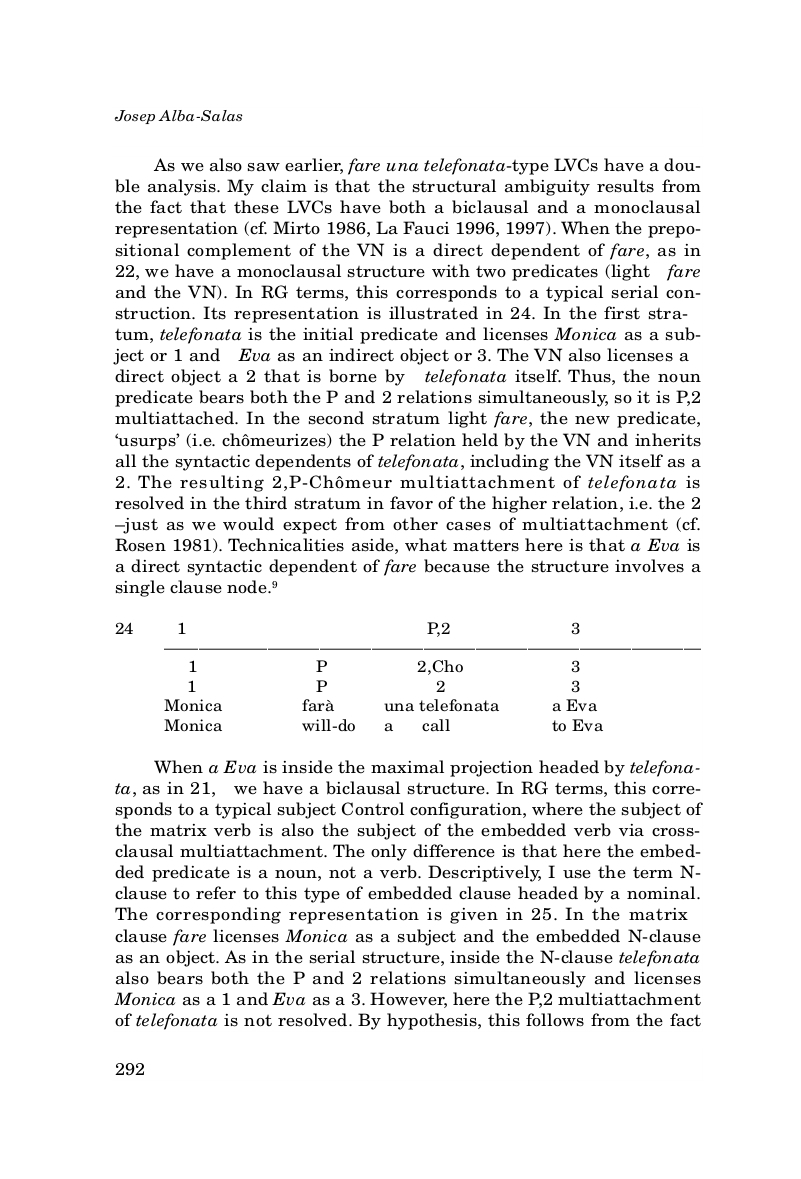Table: (115, 622, 700, 731)
